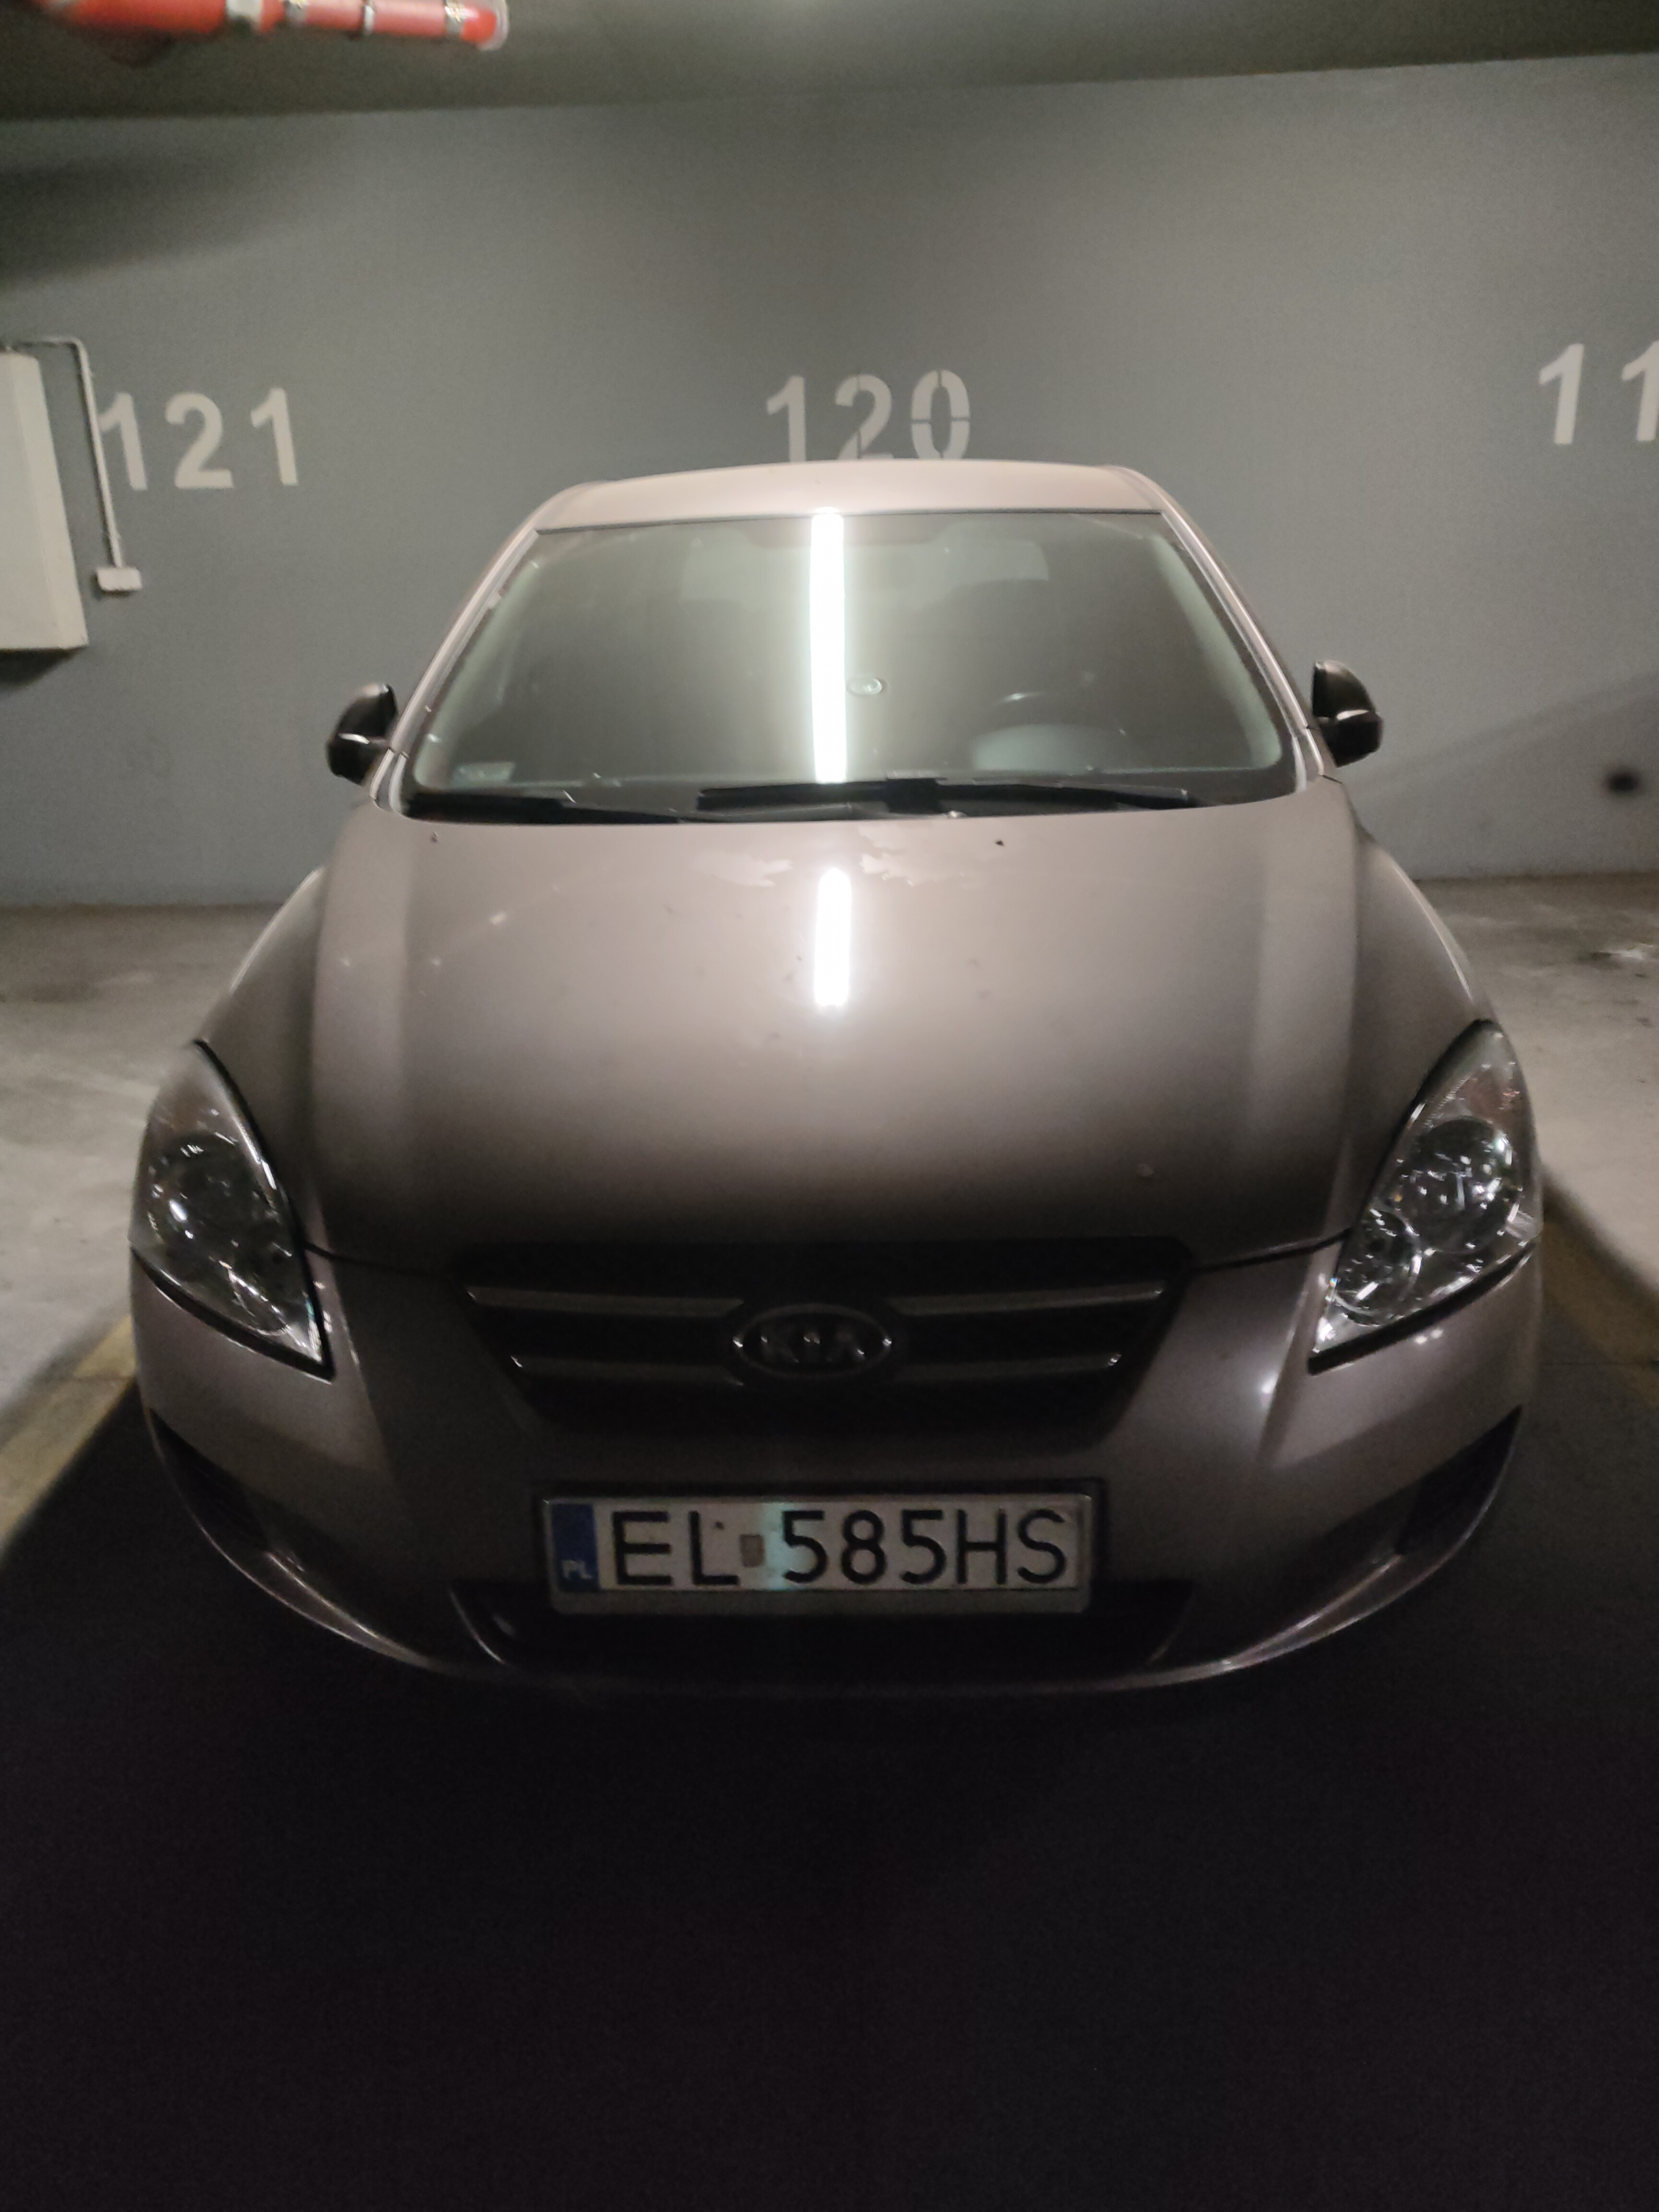number_plate: (541, 1495, 1096, 1627)
